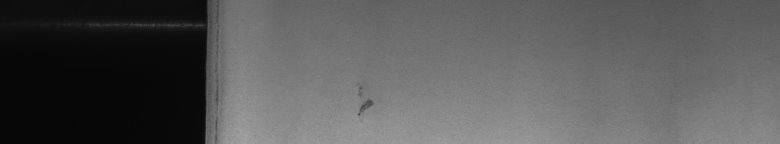fi: (356, 86, 375, 120)
